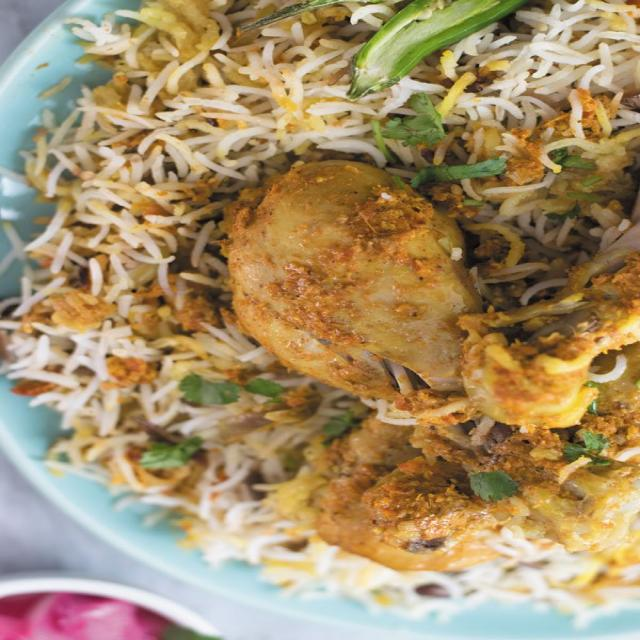Biryani: (0, 1, 624, 614)
